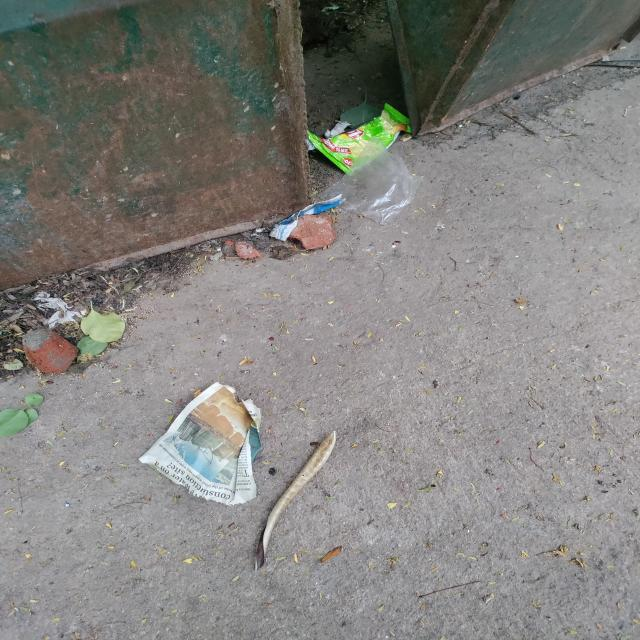metal: (3, 23, 303, 245)
paper: (126, 374, 284, 513)
plastic: (306, 99, 412, 178)
